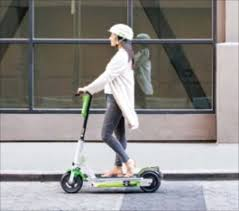kick_neck: (77, 100, 91, 164)
kick_wheel: (140, 167, 161, 192), (62, 169, 82, 192)
